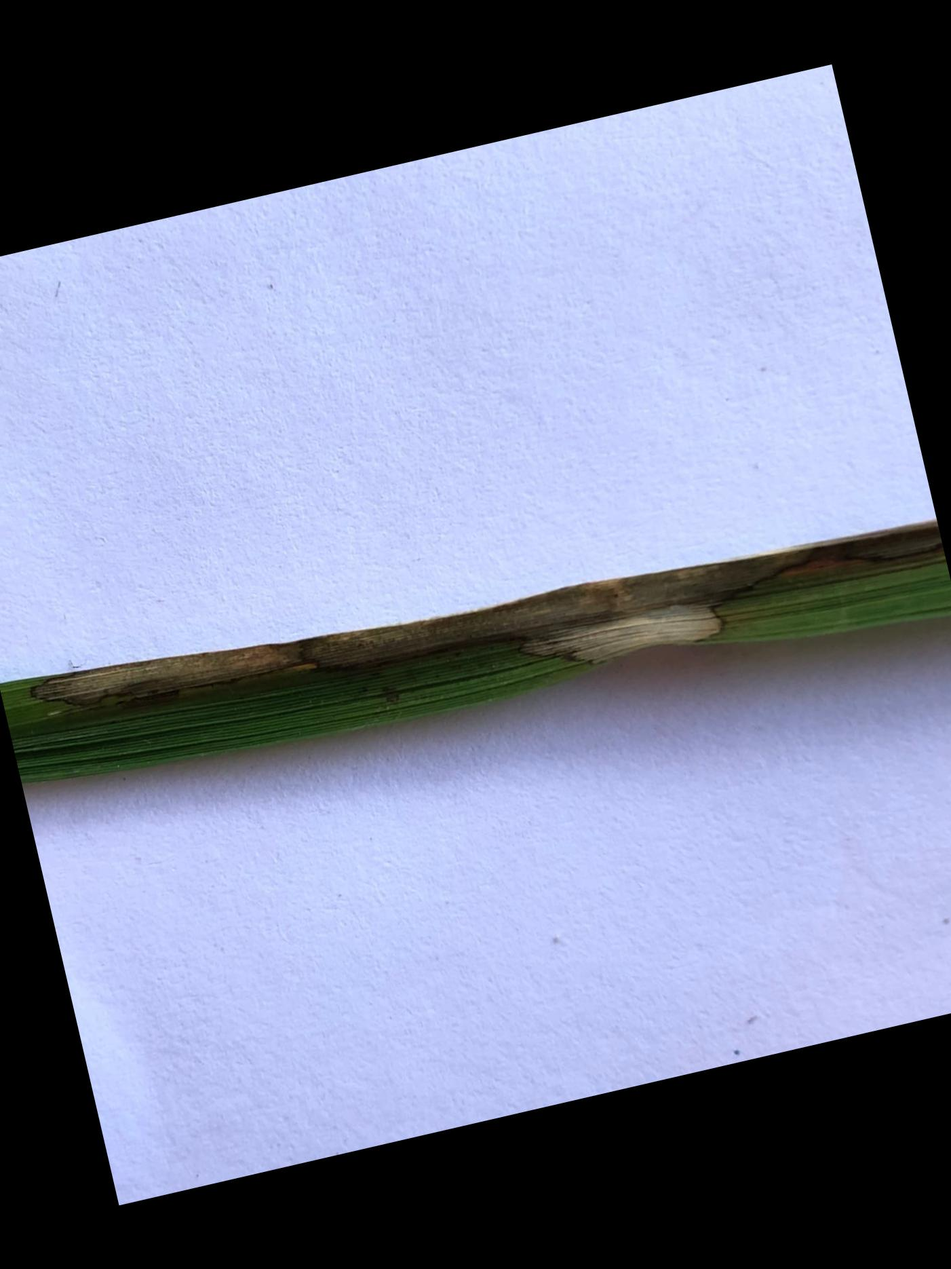Leaf Blight: (29, 523, 944, 706)
